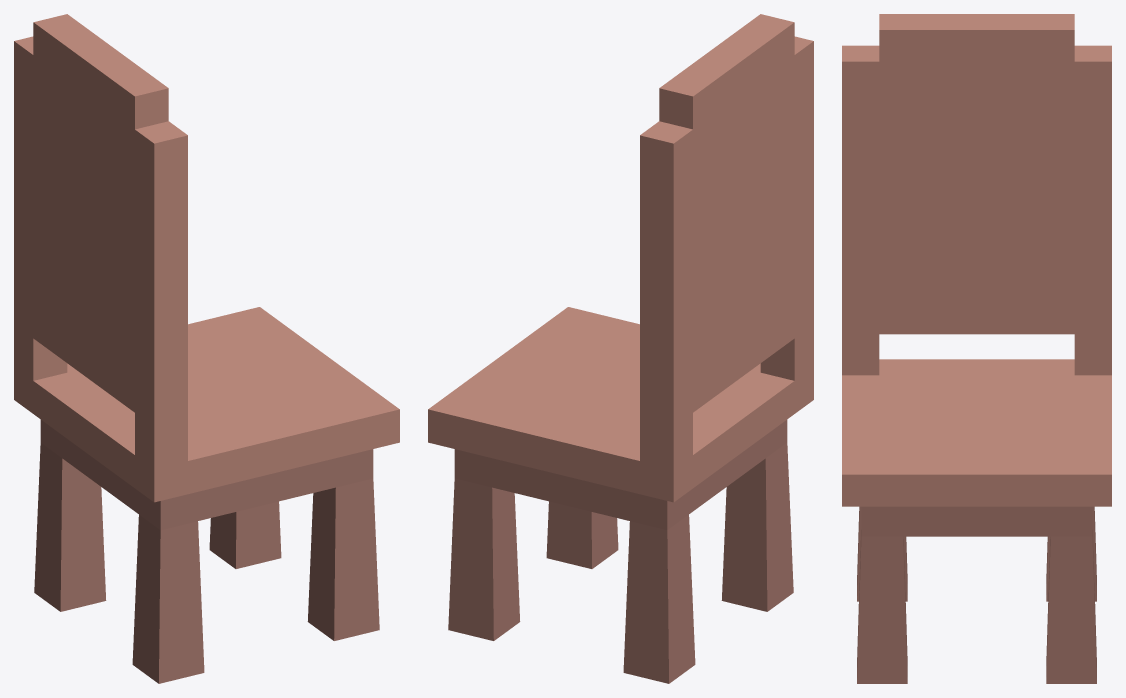
Rendered from Chair.glb.
3 renders of one model, left to right at view 1: azimuth 30°, elevation 25°; view 2: azimuth 150°, elevation 25°; view 3: azimuth 270°, elevation 25°, orthographic. The views are drawn at different scales.
Visible parts, largest first — view 1: Wood.011, DarkWood.009; view 2: Wood.011, DarkWood.009; view 3: Wood.011, DarkWood.009.
Part boxes in pixels (x1=…): Wood.011: x1=14, y1=14, x2=399, y2=502; DarkWood.009: x1=34, y1=420, x2=379, y2=683; Wood.011: x1=428, y1=14, x2=813, y2=502; DarkWood.009: x1=448, y1=420, x2=793, y2=683; Wood.011: x1=842, y1=14, x2=1111, y2=506; DarkWood.009: x1=857, y1=506, x2=1096, y2=683.
Bounding box in the file's own units: 0.4379 × 0.9913 × 0.4326.
